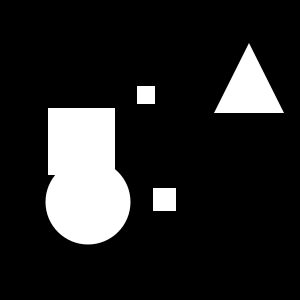circle: (48, 108, 115, 175), (153, 188, 176, 211), (137, 86, 155, 104)
rectangle: (46, 160, 130, 244)
triangle: (214, 43, 284, 113)
